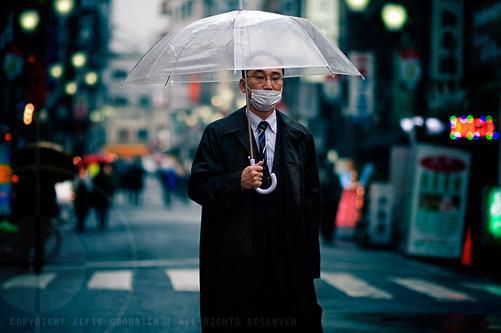WRONG: (248, 66, 289, 107)
